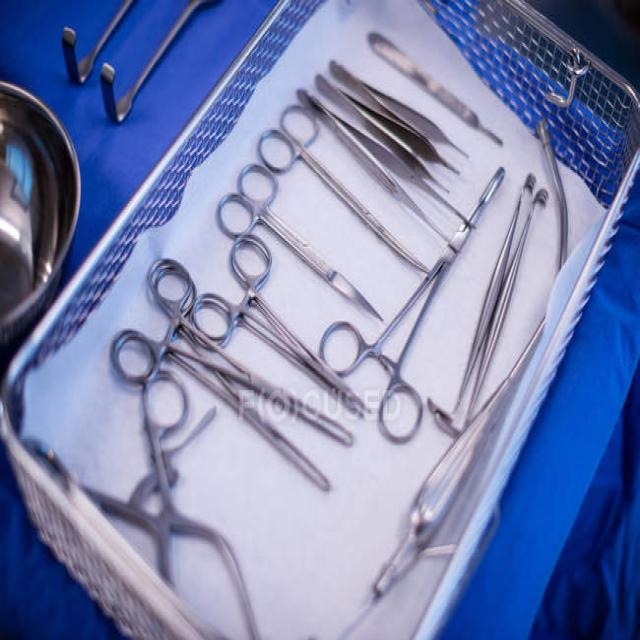B3: (334, 152, 509, 448), (190, 226, 365, 411), (214, 152, 390, 327)
